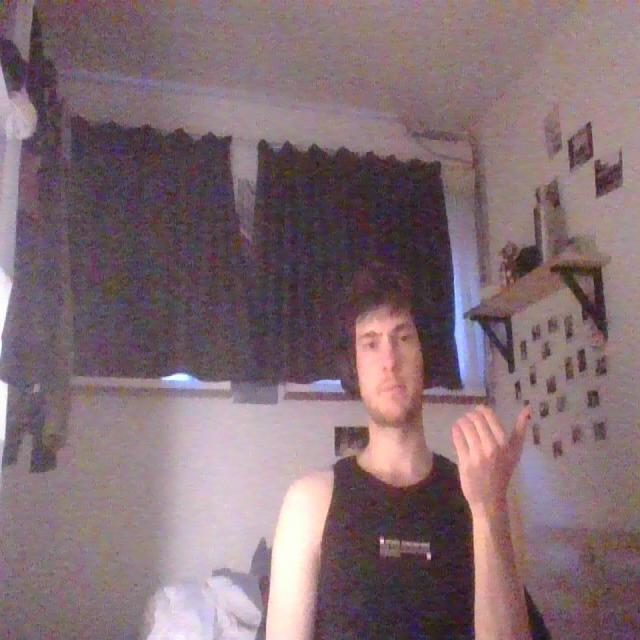forward: (447, 396, 535, 511)
